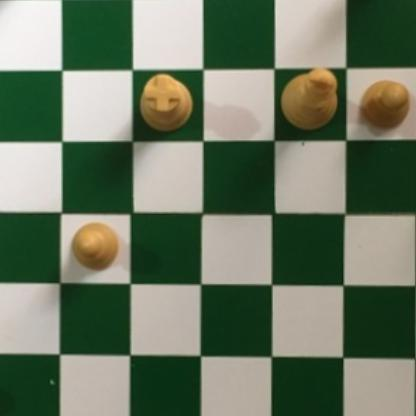white-king: (277, 66, 339, 135)
white-pawn: (356, 74, 411, 133), (70, 220, 120, 273)
white-rook: (136, 67, 194, 132)
